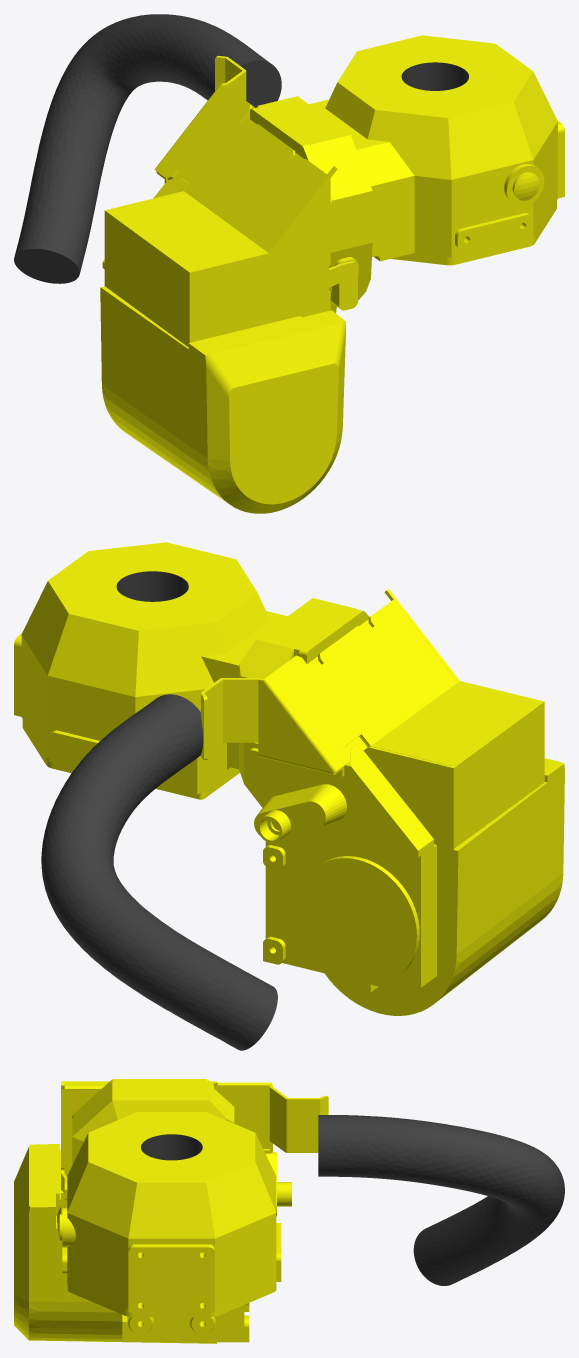
3 views of the same model, one above another, from view 1: azimuth 30°, elevation 25°; view 2: azimuth 150°, elevation 25°; view 3: azimuth 270°, elevation 25° (orthographic). The views are drawn at different scales.
Parts seen in each view (by area): view 1: node; view 2: node; view 3: node.
Part boxes in pixels (<box>): node: <box>14,14,564,513</box>; node: <box>14,542,564,1050</box>; node: <box>14,1079,564,1343</box>.
Size of the model in its own units: 356 by 264 by 445.
